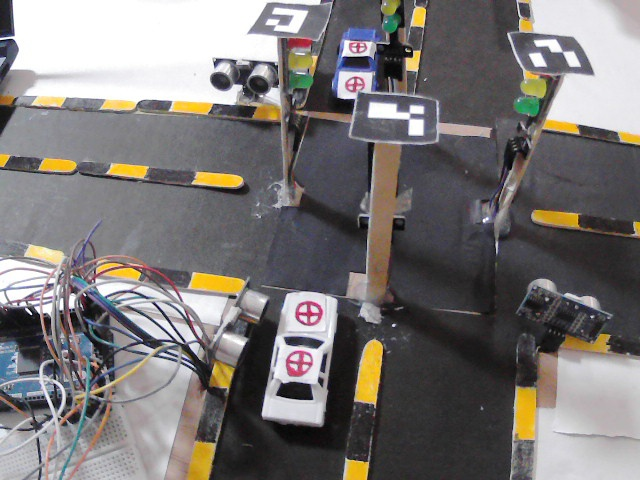aruco_marker: (351, 92, 439, 147), (506, 30, 595, 82), (249, 2, 333, 43)
emergency_vehicle: (257, 289, 340, 430), (327, 26, 382, 101)
traffic_light: (505, 79, 560, 164), (377, 0, 411, 80), (282, 40, 313, 104)
uno_breadboard: (0, 294, 116, 416), (0, 391, 145, 480), (516, 280, 612, 354), (207, 279, 269, 364), (207, 60, 278, 101)
